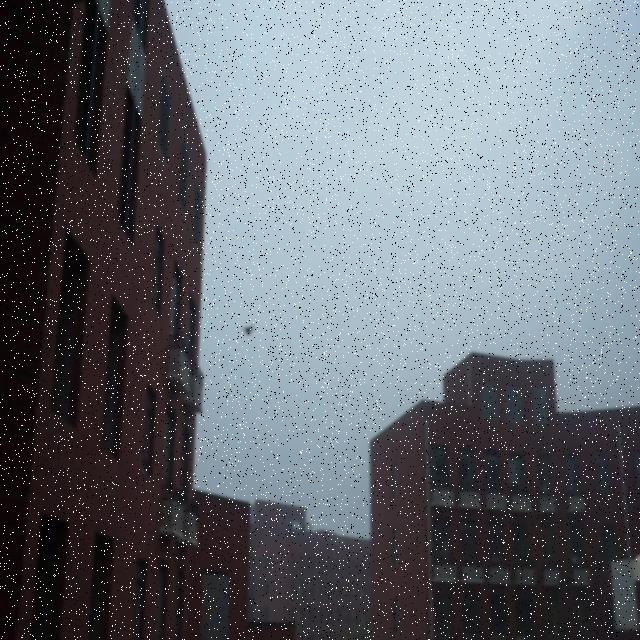UAV: (242, 324, 256, 337)
